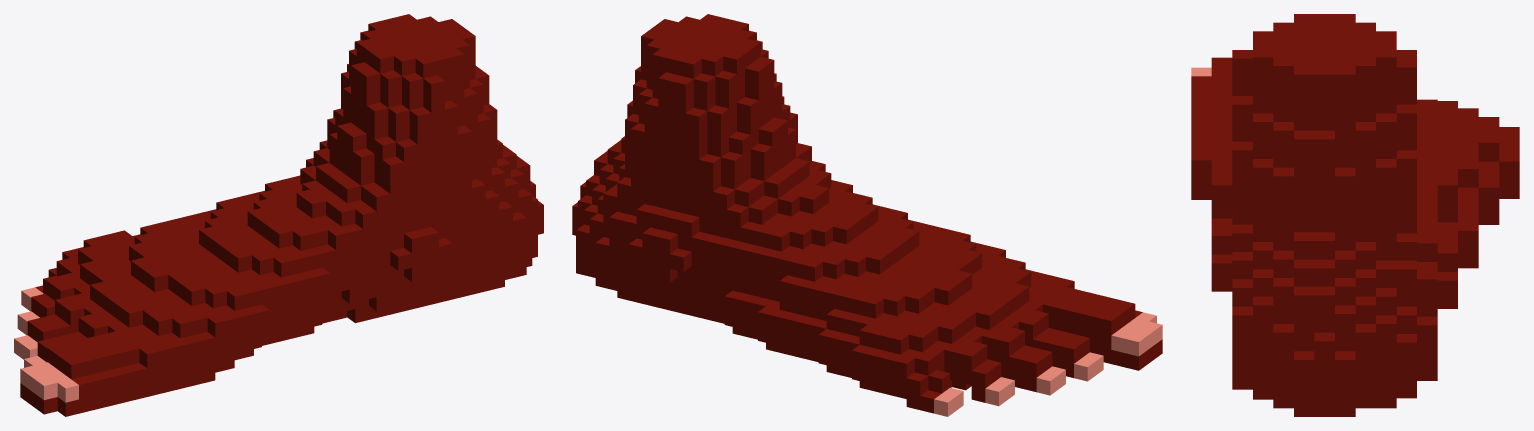
The model's file is Red Goobler.fbx.
The picture shows the model from 3 angles, left to right: view 1: azimuth 30°, elevation 25°; view 2: azimuth 150°, elevation 25°; view 3: azimuth 270°, elevation 25°; orthographic projection. The views are drawn at different scales.
Parts seen in each view (by area): view 1: Untitled; view 2: Untitled; view 3: Untitled.
Part boxes in pixels (x1,y1,x2,y2): Untitled: [14, 14, 543, 416]; Untitled: [572, 14, 1162, 416]; Untitled: [1191, 14, 1519, 416].
Bounding box in the file's own units: 390 × 170 × 160.
